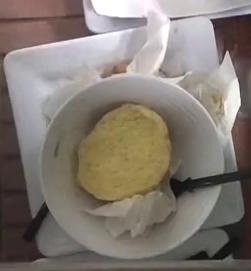bun: (76, 103, 169, 199)
